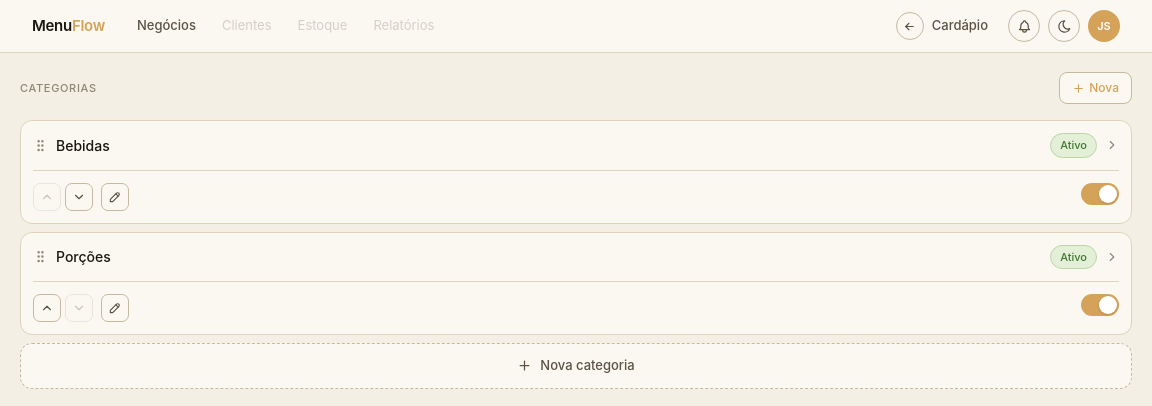
Test: MenuCategories — editar › atualiza nome na lista após salvar
Click the button with test id "btn-edit-c1". click: (115, 196)
box: [101,182,129,210]
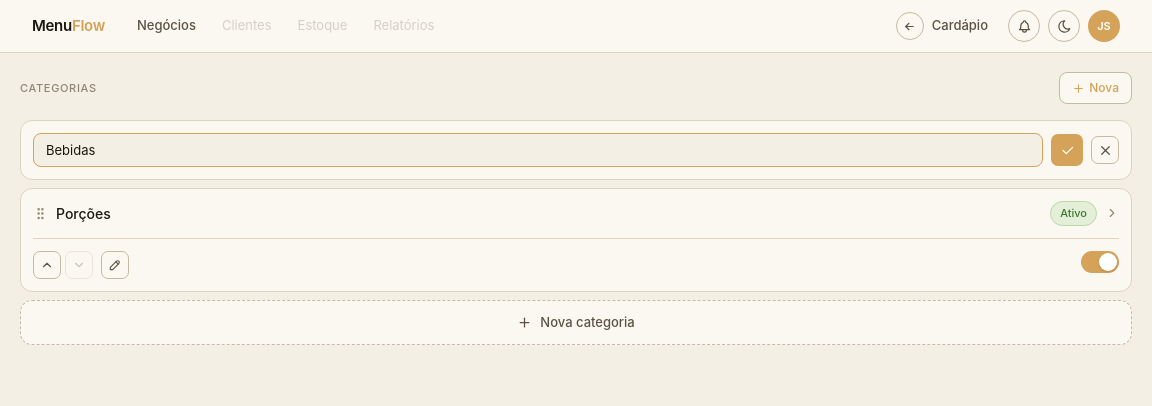
Replace the text in the field with test id "edit-input-c1" with "Drinks". click: (538, 150)
box: [33,133,1043,167]
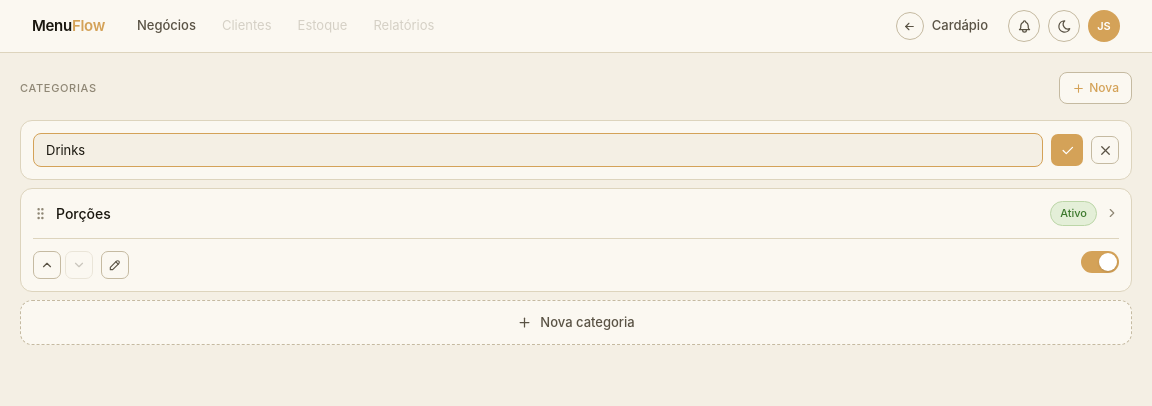
Click the button with test id "btn-save-edit-c1". click: (1067, 150)
box: [1051,134,1083,166]
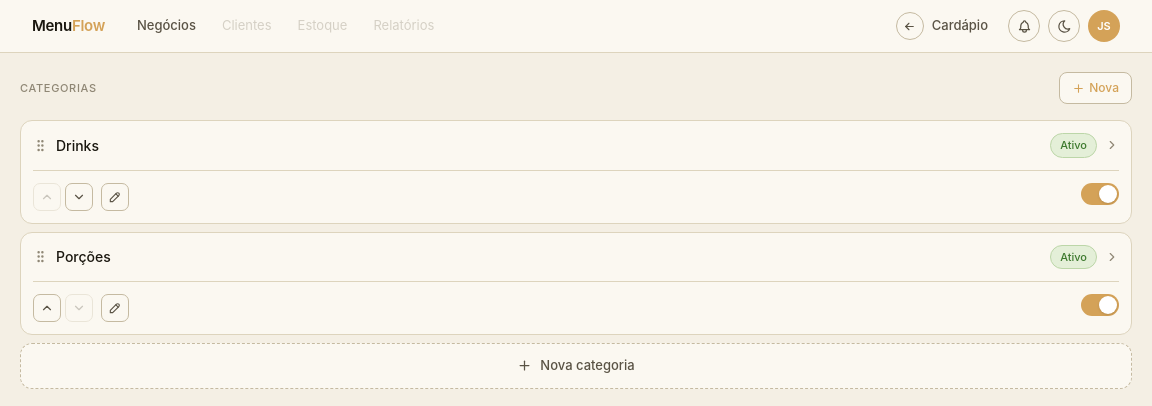
Expected: the text with test id "category-name-c1" reads "Drinks", [56,137,99,154]
